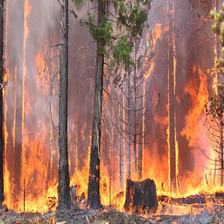fire: (3, 79, 220, 217)
